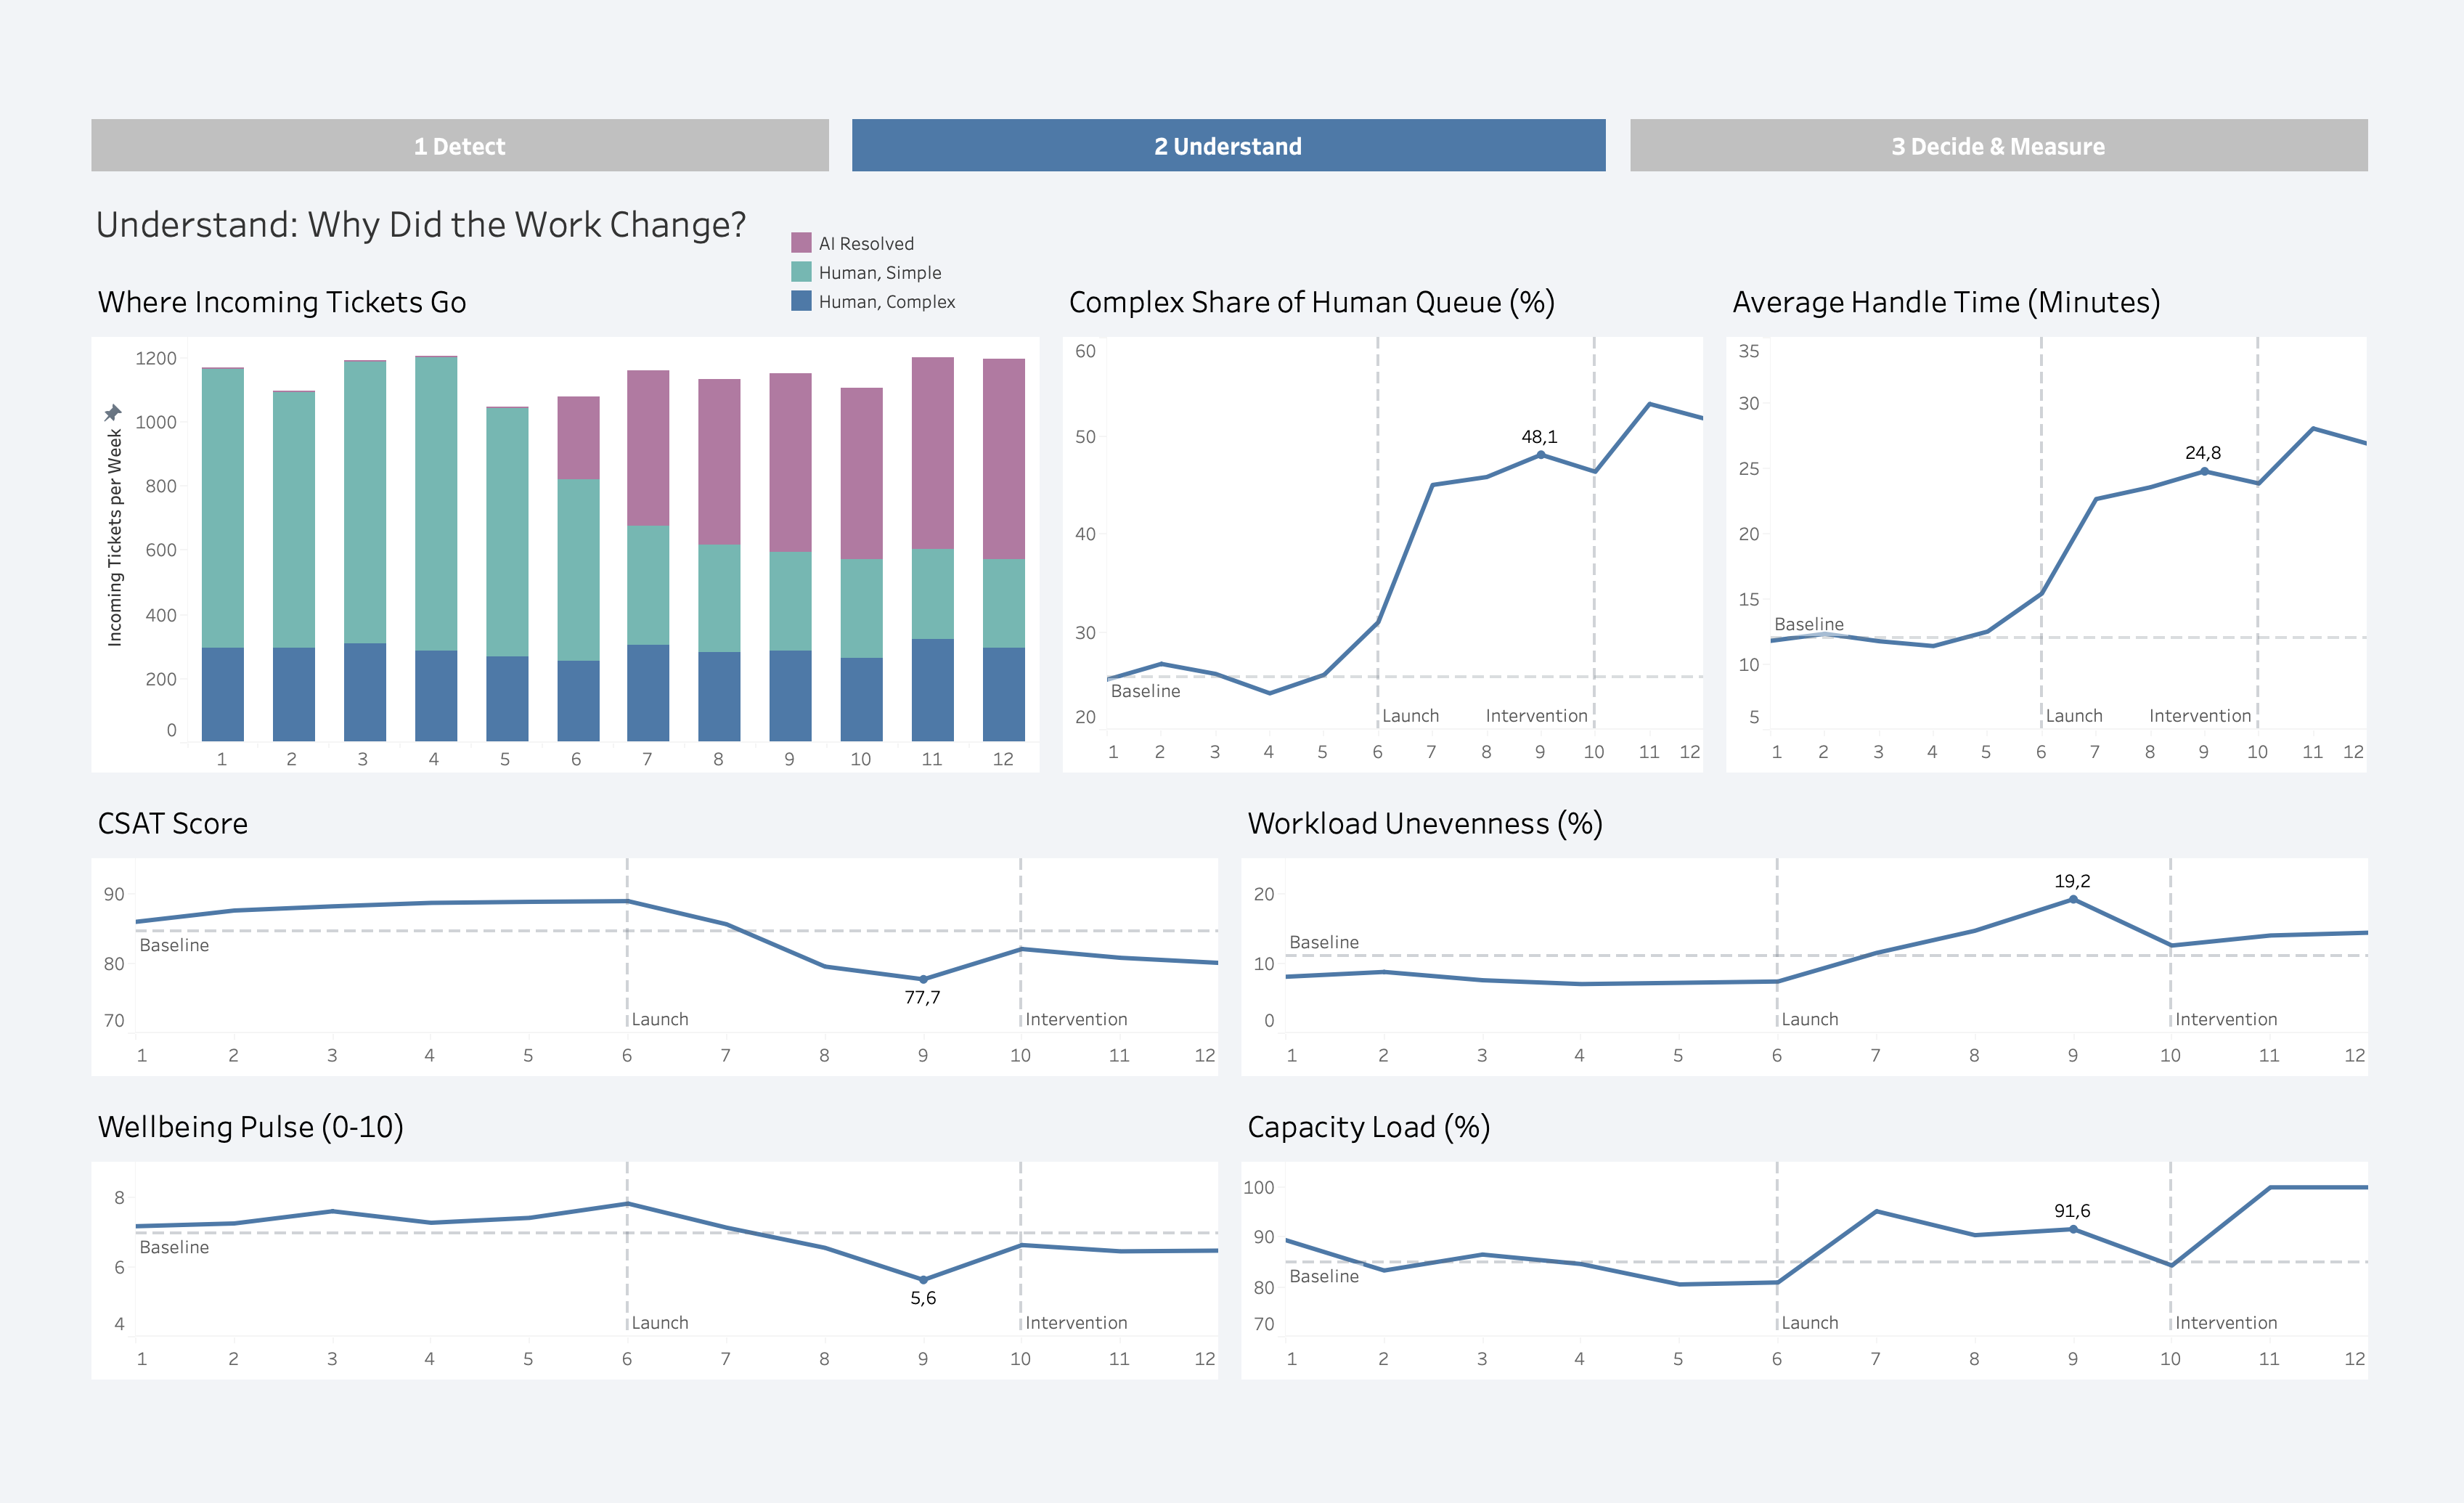

What the dashboard file says about the page in this screenshot:
{"tool":"tableau","page":{"name":"2 Understand","canvas":[1600,900],"ordinal":1},"visuals":[{"type":"dashboard-object","box":[8,8,524.4,52.1]},{"type":"dashboard-object","box":[532.4,8,535.2,52.1]},{"type":"dashboard-object","box":[1067.6,8,524.4,52.1]},{"type":"title","box":[8,60.1,1584,55]},{"type":"legend","title":"Where Incoming Tickets Go","param":"[federated.0g6nrmr1864o2d17kgii20wgbudc].[:Measure Names]","box":[495,91,206,88]},{"type":"worksheet","title":"Where Incoming Tickets Go","mark":"Bar","cols":["week"],"box":[8,115.1,669,359.2]},{"type":"worksheet","title":"Complex Share","mark":"Automatic","rows":["high_complexity_share_pct"],"cols":["week"],"box":[677,115.1,457.5,359.2]},{"type":"worksheet","title":"Handle Time","mark":"Automatic","rows":["avg_handle_time_min"],"cols":["week"],"box":[1134.5,115.1,457.5,359.2]},{"type":"worksheet","title":"CSAT","mark":"Automatic","rows":["csat_score"],"cols":["week"],"box":[8,474.3,792,208.9]},{"type":"worksheet","title":"Workload Unevenness","mark":"Automatic","rows":["workload_distribution_pct"],"cols":["week"],"box":[800,474.3,792,208.9]},{"type":"worksheet","title":"Wellbeing","mark":"Automatic","rows":["wellbeing_pulse"],"cols":["week"],"box":[8,683.1,792,208.9]},{"type":"worksheet","title":"Capacity Load","mark":"Automatic","rows":["capacity_load_pct"],"cols":["week"],"box":[800,683.1,792,208.9]}]}

Visuals, with their boxes on the page's 1600x900 design canvas (x1, y1, x2, y2). These are canvas units, not pixel positions in the 2464x1503 screenshot, which may show the page scaled, cropped or inside an application window:
dashboard-object: [x1=8, y1=8, x2=532, y2=60]
dashboard-object: [x1=532, y1=8, x2=1068, y2=60]
dashboard-object: [x1=1068, y1=8, x2=1592, y2=60]
title: [x1=8, y1=60, x2=1592, y2=115]
"Where Incoming Tickets Go" legend: [x1=495, y1=91, x2=701, y2=179]
"Where Incoming Tickets Go" worksheet (Bar marks): [x1=8, y1=115, x2=677, y2=474]
"Complex Share" worksheet: [x1=677, y1=115, x2=1134, y2=474]
"Handle Time" worksheet: [x1=1134, y1=115, x2=1592, y2=474]
"CSAT" worksheet: [x1=8, y1=474, x2=800, y2=683]
"Workload Unevenness" worksheet: [x1=800, y1=474, x2=1592, y2=683]
"Wellbeing" worksheet: [x1=8, y1=683, x2=800, y2=892]
"Capacity Load" worksheet: [x1=800, y1=683, x2=1592, y2=892]
